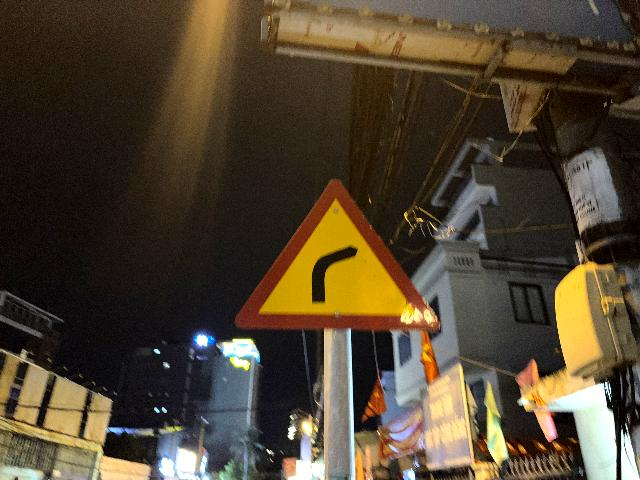cho-ngoat-nguy-hiem-ben-phai: (233, 179, 442, 333)
